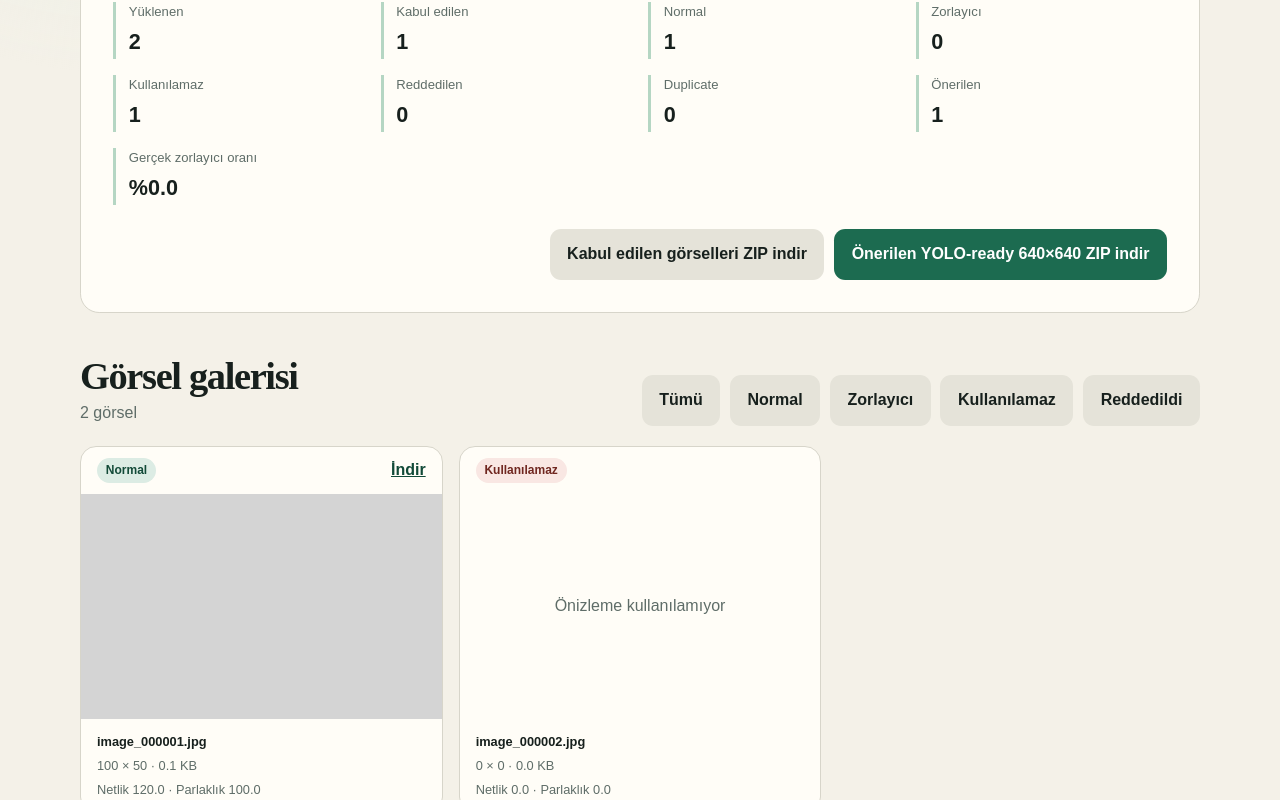
it: dataset result gallery › shows summary, filters, preview and both exports
The width and height of the screenshot is (1280, 800).
(page scrolled)
What coordinates should you click on to do the following:
click the button "Kullanılamaz"
I would click on:
 (1007, 400)
Its box is [940,375,1073,426].
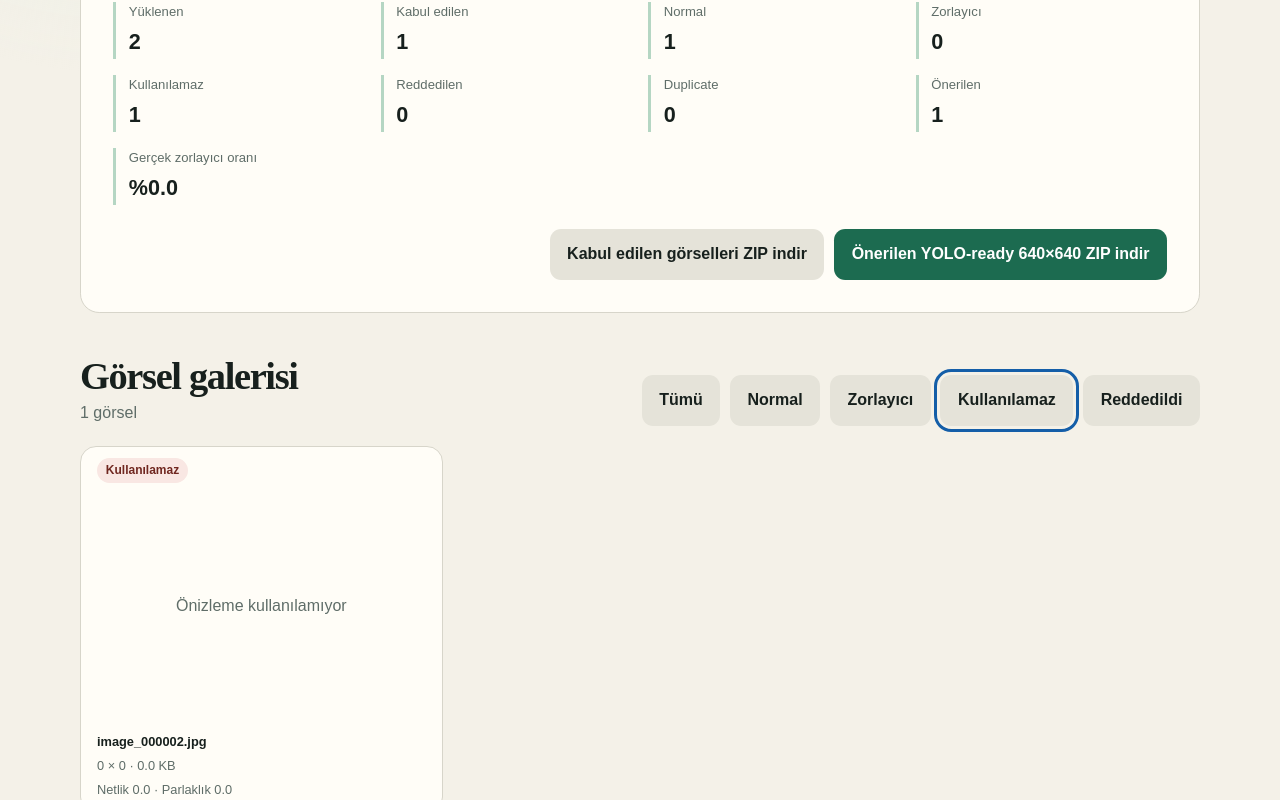
Expected: the text "Önizleme kullanılamıyor" is shown, [176,597,347,614]
Expected: the link "İndir" is gone
